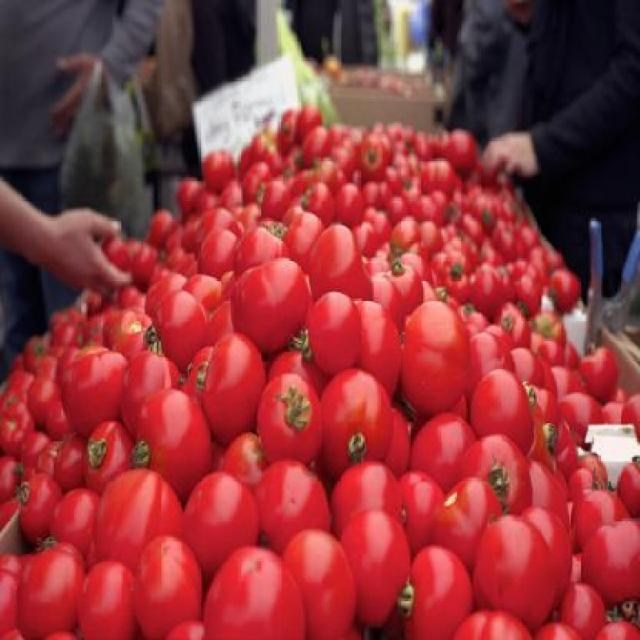Tomato: (0, 103, 640, 640), (232, 249, 314, 354)
